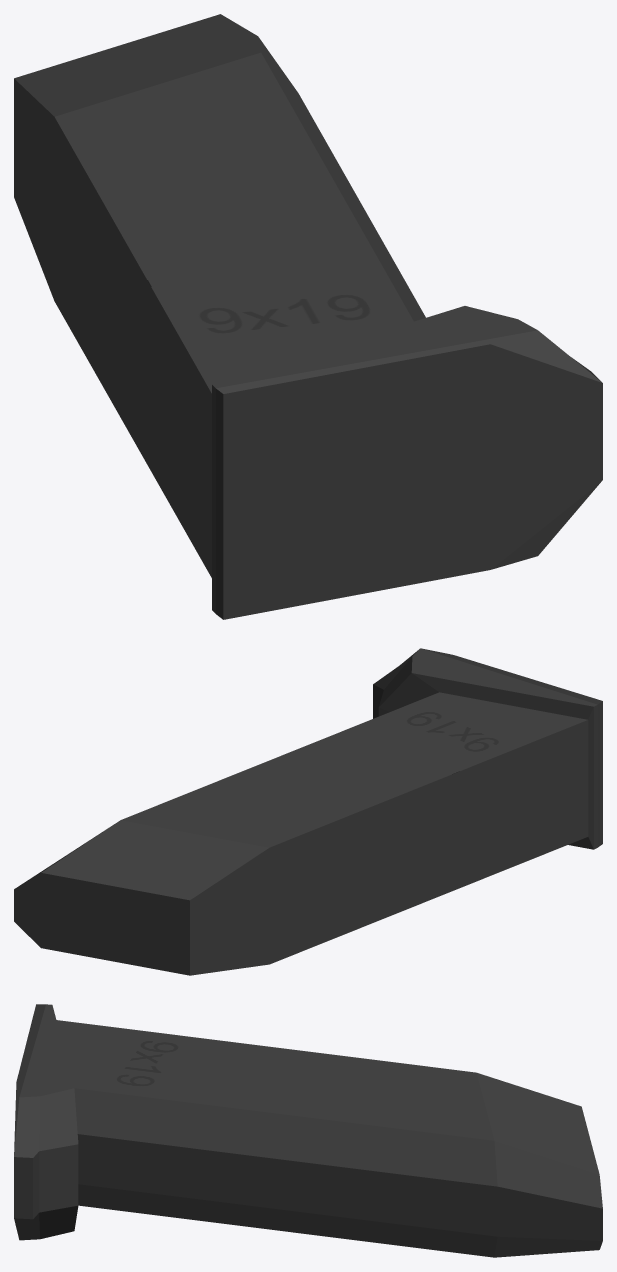
The model's file is uspmatchclip.fbx.
The picture shows the model from 3 angles, top to bottom: view 1: azimuth 30°, elevation 25°; view 2: azimuth 150°, elevation 25°; view 3: azimuth 270°, elevation 25°; orthographic projection. The views are drawn at different scales.
Visible parts, largest first — view 1: USP Match Magazine; view 2: USP Match Magazine; view 3: USP Match Magazine.
Part boxes in pixels (x1,y1,x2,y2): USP Match Magazine: (14, 14, 602, 619); USP Match Magazine: (14, 648, 602, 975); USP Match Magazine: (14, 1004, 602, 1257).
Bounding box in the file's own units: 0.0482 × 0.0216 × 0.0805.
